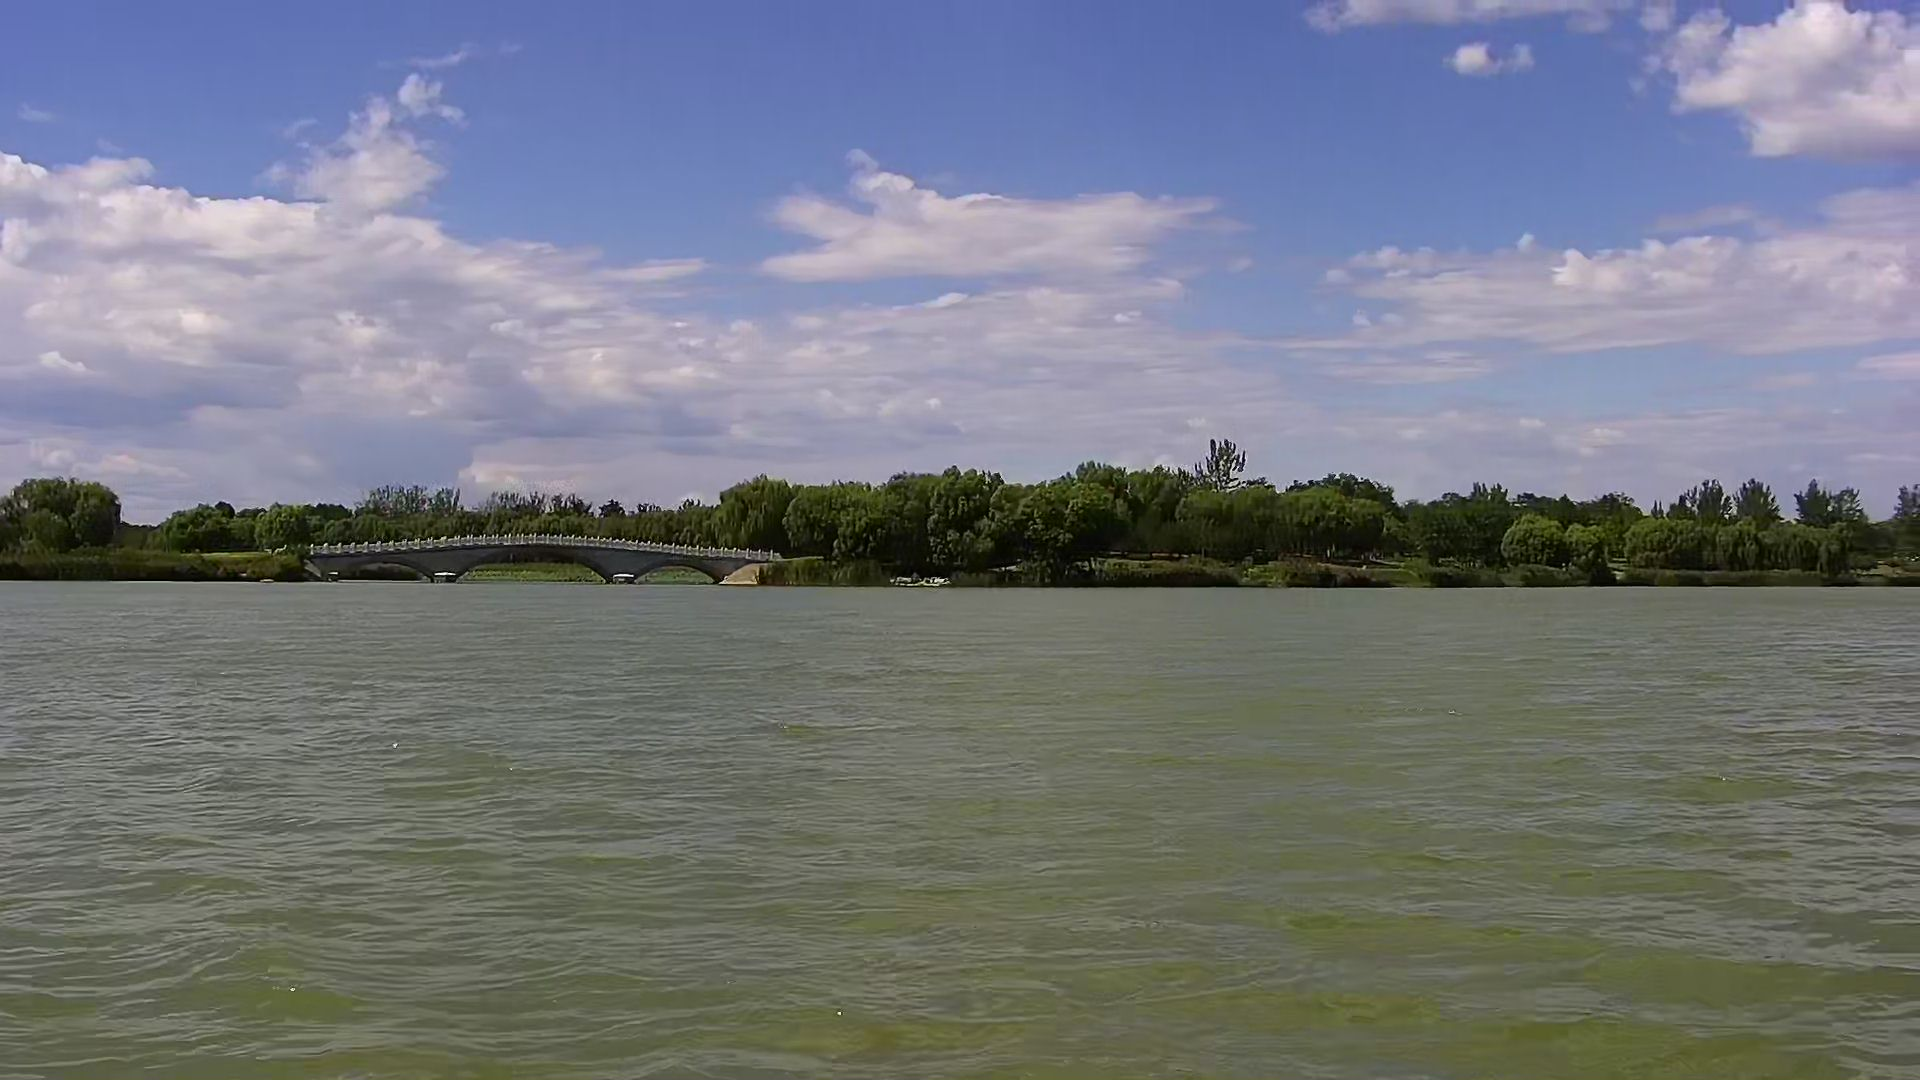bridge: (301, 535, 794, 595)
